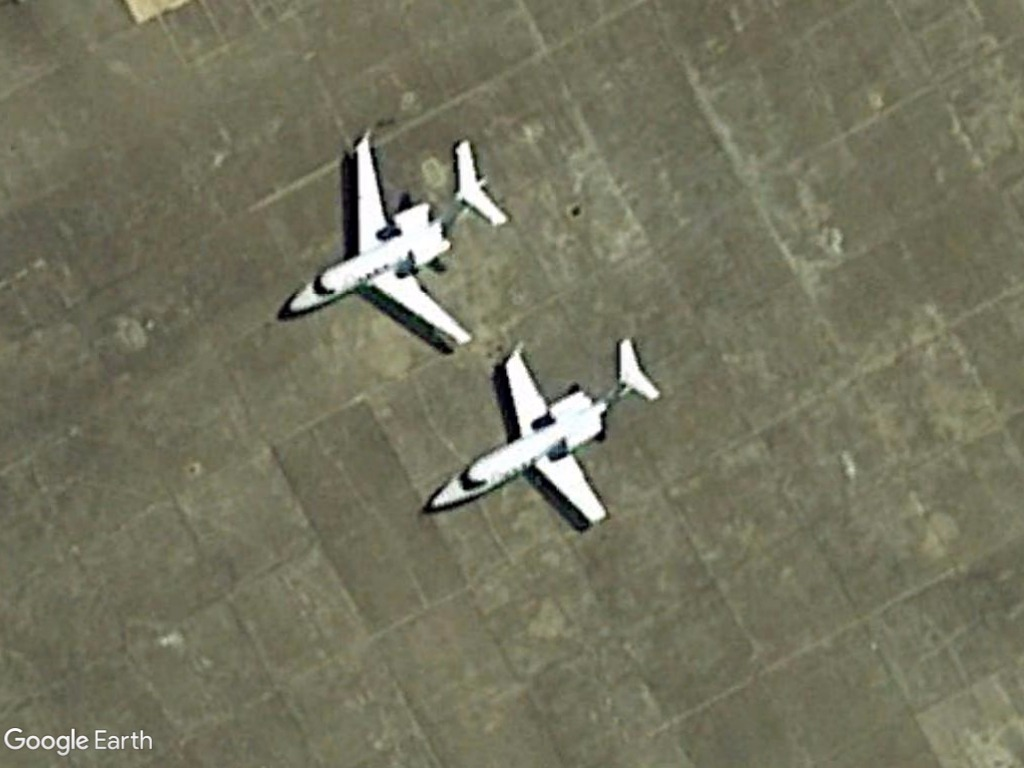chartered: (283, 133, 515, 352), (424, 338, 667, 534)
